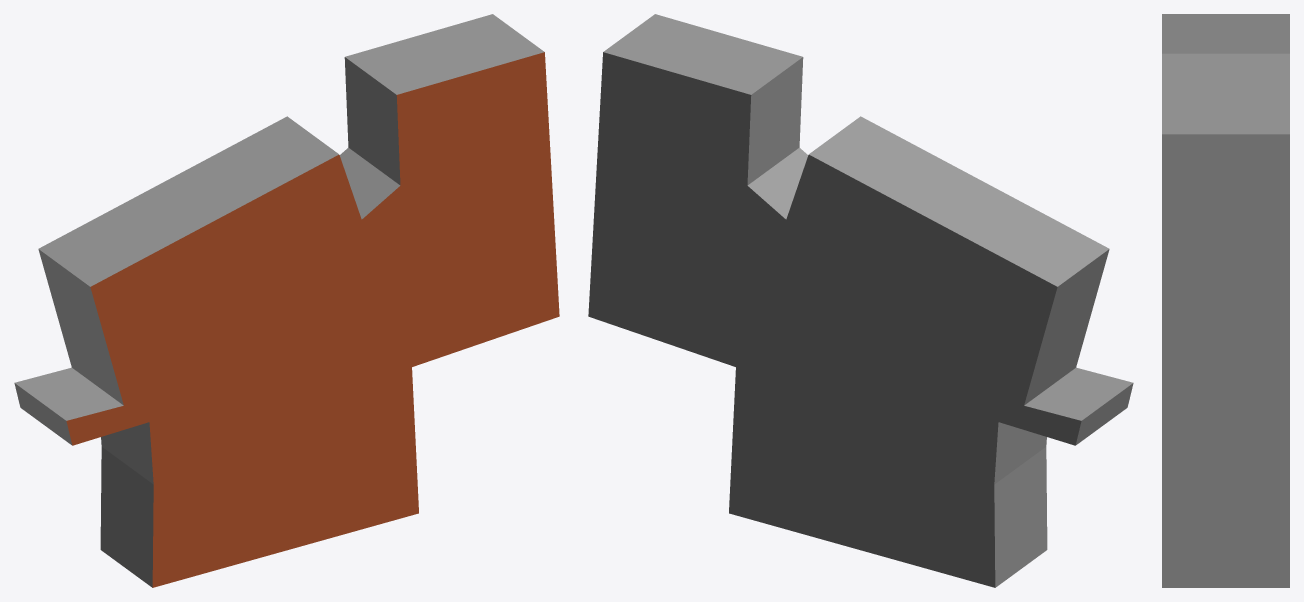
The model's file is construction_2850_assumed_A_Casa_h6m.obj.
3 views of the same model, side by side, from view 1: azimuth 30°, elevation 25°; view 2: azimuth 150°, elevation 25°; view 3: azimuth 270°, elevation 25° (orthographic). The views are drawn at different scales.
Parts seen in each view (by area): view 1: construction_2850_assumed_A_Casa; view 2: construction_2850_assumed_A_Casa; view 3: construction_2850_assumed_A_Casa.
Boxes of the visible parts, left/top/right/bottom form: construction_2850_assumed_A_Casa: left=14, top=14, right=559, bottom=587; construction_2850_assumed_A_Casa: left=588, top=14, right=1133, bottom=587; construction_2850_assumed_A_Casa: left=1162, top=14, right=1289, bottom=587.
Size of the model in its own units: 32.82 by 27.99 by 6.
